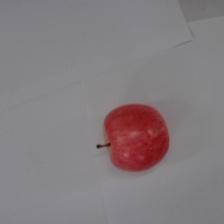red: (100, 101, 170, 172)
